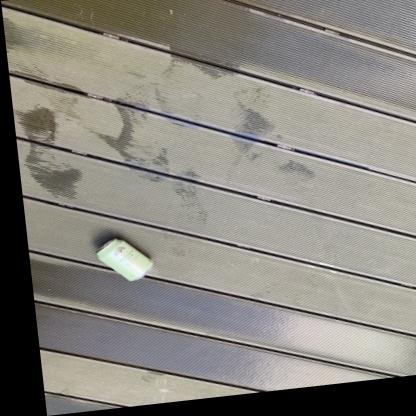trash: (97, 238, 152, 280)
